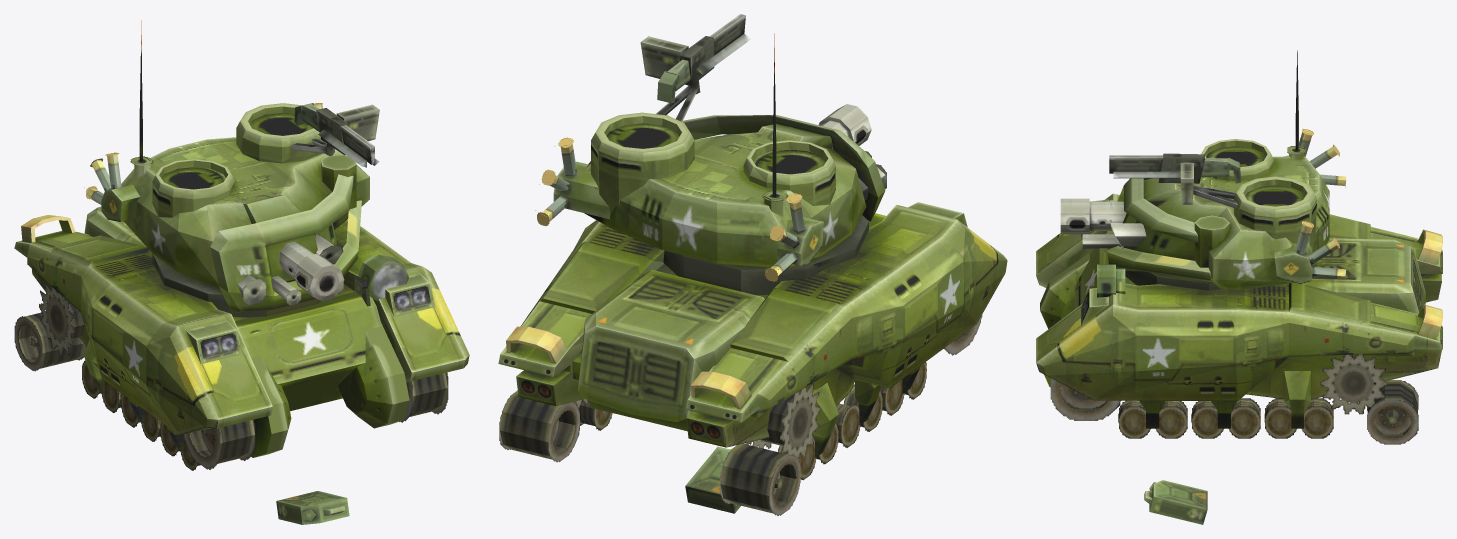
The model's file is VWFLTNKH.obj.
The picture shows the model from 3 angles, left to right: view 1: azimuth 30°, elevation 25°; view 2: azimuth 150°, elevation 25°; view 3: azimuth 270°, elevation 25°; orthographic projection. The views are drawn at different scales.
Visible parts, largest first — view 1: Node 0, Node 2, Node 7, Node 17, Node 38, Node 32, Node 39, Node 21, Node 33, Node 13; view 2: Node 0, Node 2, Node 32, Node 7, Node 28, Node 39, Node 21, Node 17, Node 41, Node 5, Node 37, Node 40 (+1 smaller); view 3: Node 0, Node 2, Node 7, Node 25, Node 28, Node 17, Node 21, Node 33, Node 36, Node 37, Node 35, Node 27 (+4 smaller).
Part boxes in pixels (x1,y1,x2,y2): Node 0: (14, 206, 469, 457); Node 2: (84, 103, 369, 312); Node 7: (294, 103, 379, 167); Node 17: (271, 241, 344, 305); Node 38: (183, 419, 255, 469); Node 32: (14, 312, 86, 371); Node 39: (39, 275, 84, 355); Node 21: (276, 491, 349, 524); Node 33: (399, 372, 448, 422); Node 13: (358, 254, 408, 300); Node 0: (498, 202, 1007, 457); Node 2: (535, 112, 886, 281); Node 32: (720, 443, 800, 515); Node 7: (640, 14, 750, 103); Node 28: (499, 390, 579, 462); Node 39: (746, 383, 820, 458); Node 21: (685, 446, 740, 513); Node 17: (818, 104, 871, 157); Node 41: (836, 403, 860, 447); Node 5: (656, 80, 700, 121); Node 37: (575, 401, 612, 430); Node 40: (880, 379, 904, 415); Node 0: (1036, 193, 1442, 428); Node 2: (1107, 128, 1346, 289); Node 7: (1109, 153, 1241, 204); Node 25: (1320, 353, 1387, 414); Node 28: (1367, 380, 1418, 444); Node 17: (1060, 198, 1126, 248); Node 21: (1144, 480, 1207, 524); Node 33: (1050, 378, 1121, 420); Node 36: (1228, 398, 1260, 438); Node 37: (1301, 398, 1333, 438); Node 35: (1155, 401, 1187, 438); Node 27: (1264, 398, 1296, 438).
Size of what is drawn, in the model's own units: 3.87 by 6.36 by 5.18.
Materials: 33 (33 with a texture image).
